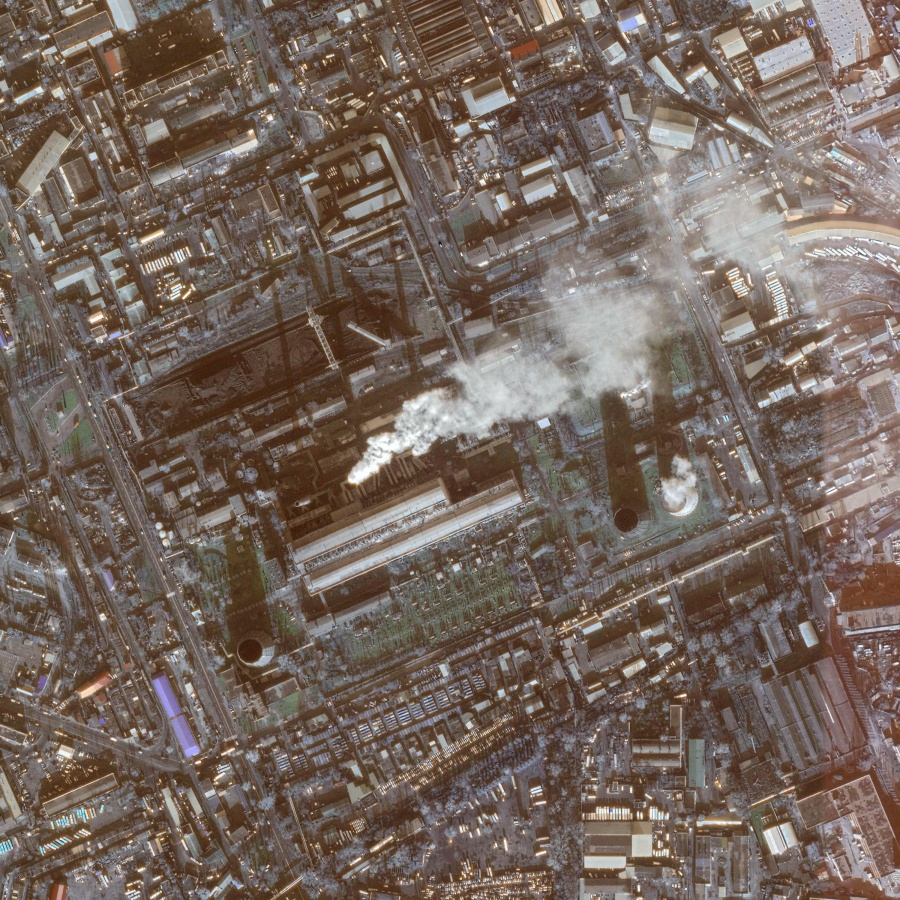PowerPlant: (208, 251, 833, 676)
